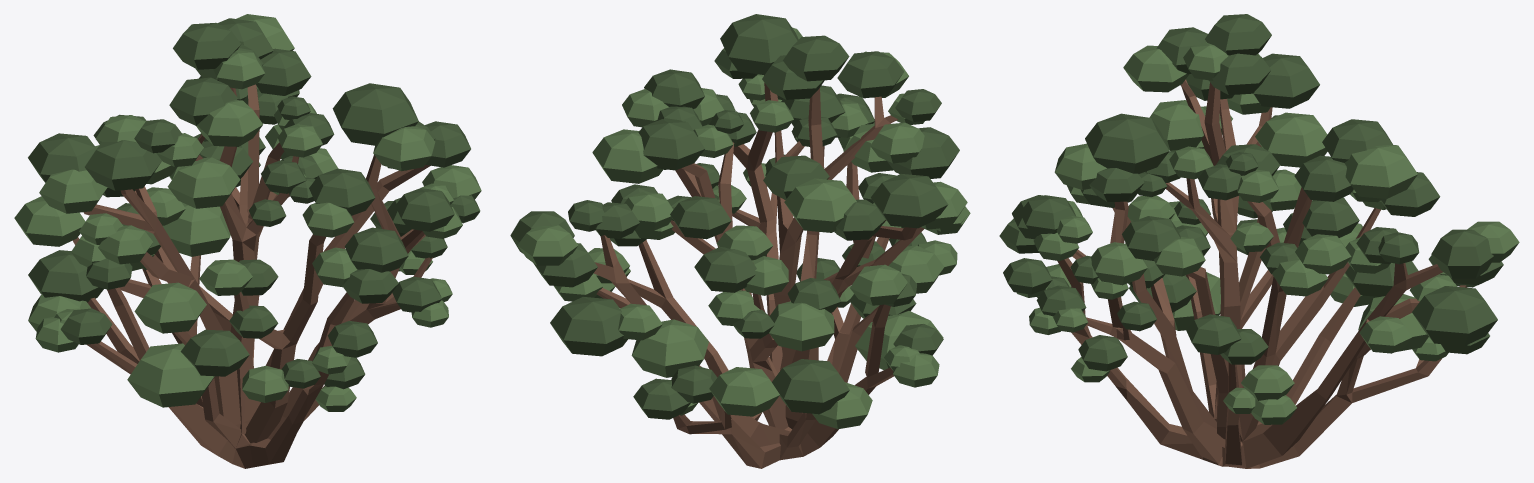
The model's file is bushNew.fbx.
The picture shows the model from 3 angles, left to right: view 1: azimuth 30°, elevation 25°; view 2: azimuth 150°, elevation 25°; view 3: azimuth 270°, elevation 25°; orthographic projection. The views are drawn at different scales.
Visible parts, largest first — view 1: leaves, bushSkeleton; view 2: leaves, bushSkeleton; view 3: leaves, bushSkeleton.
Part boxes in pixels (x1,y1,x2,y2): leaves: (14, 14, 481, 411); bushSkeleton: (72, 84, 432, 468); leaves: (510, 14, 970, 429); bushSkeleton: (594, 75, 924, 468); leaves: (999, 14, 1519, 424); bushSkeleton: (1057, 79, 1467, 468).
Bounding box in the file's own units: 752 × 805 × 883.
